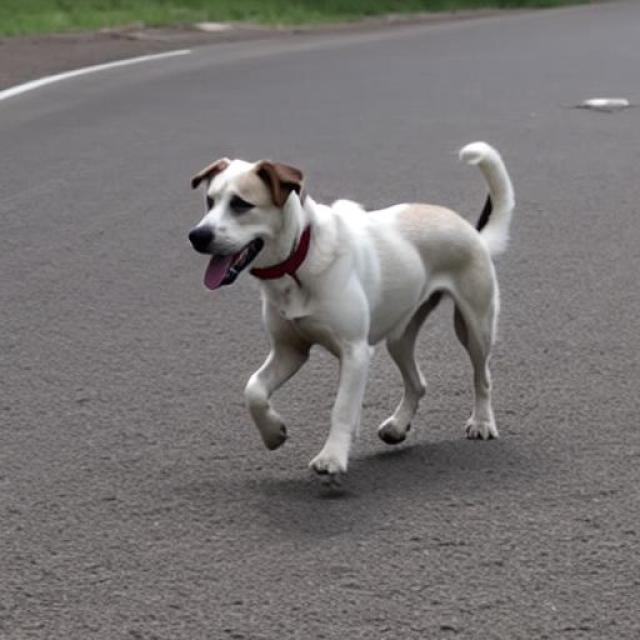Dog: (190, 141, 515, 477)
